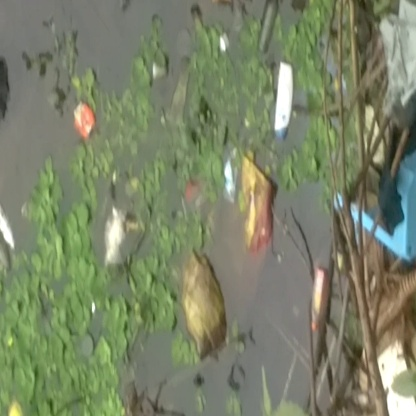bottle: (271, 57, 300, 141)
